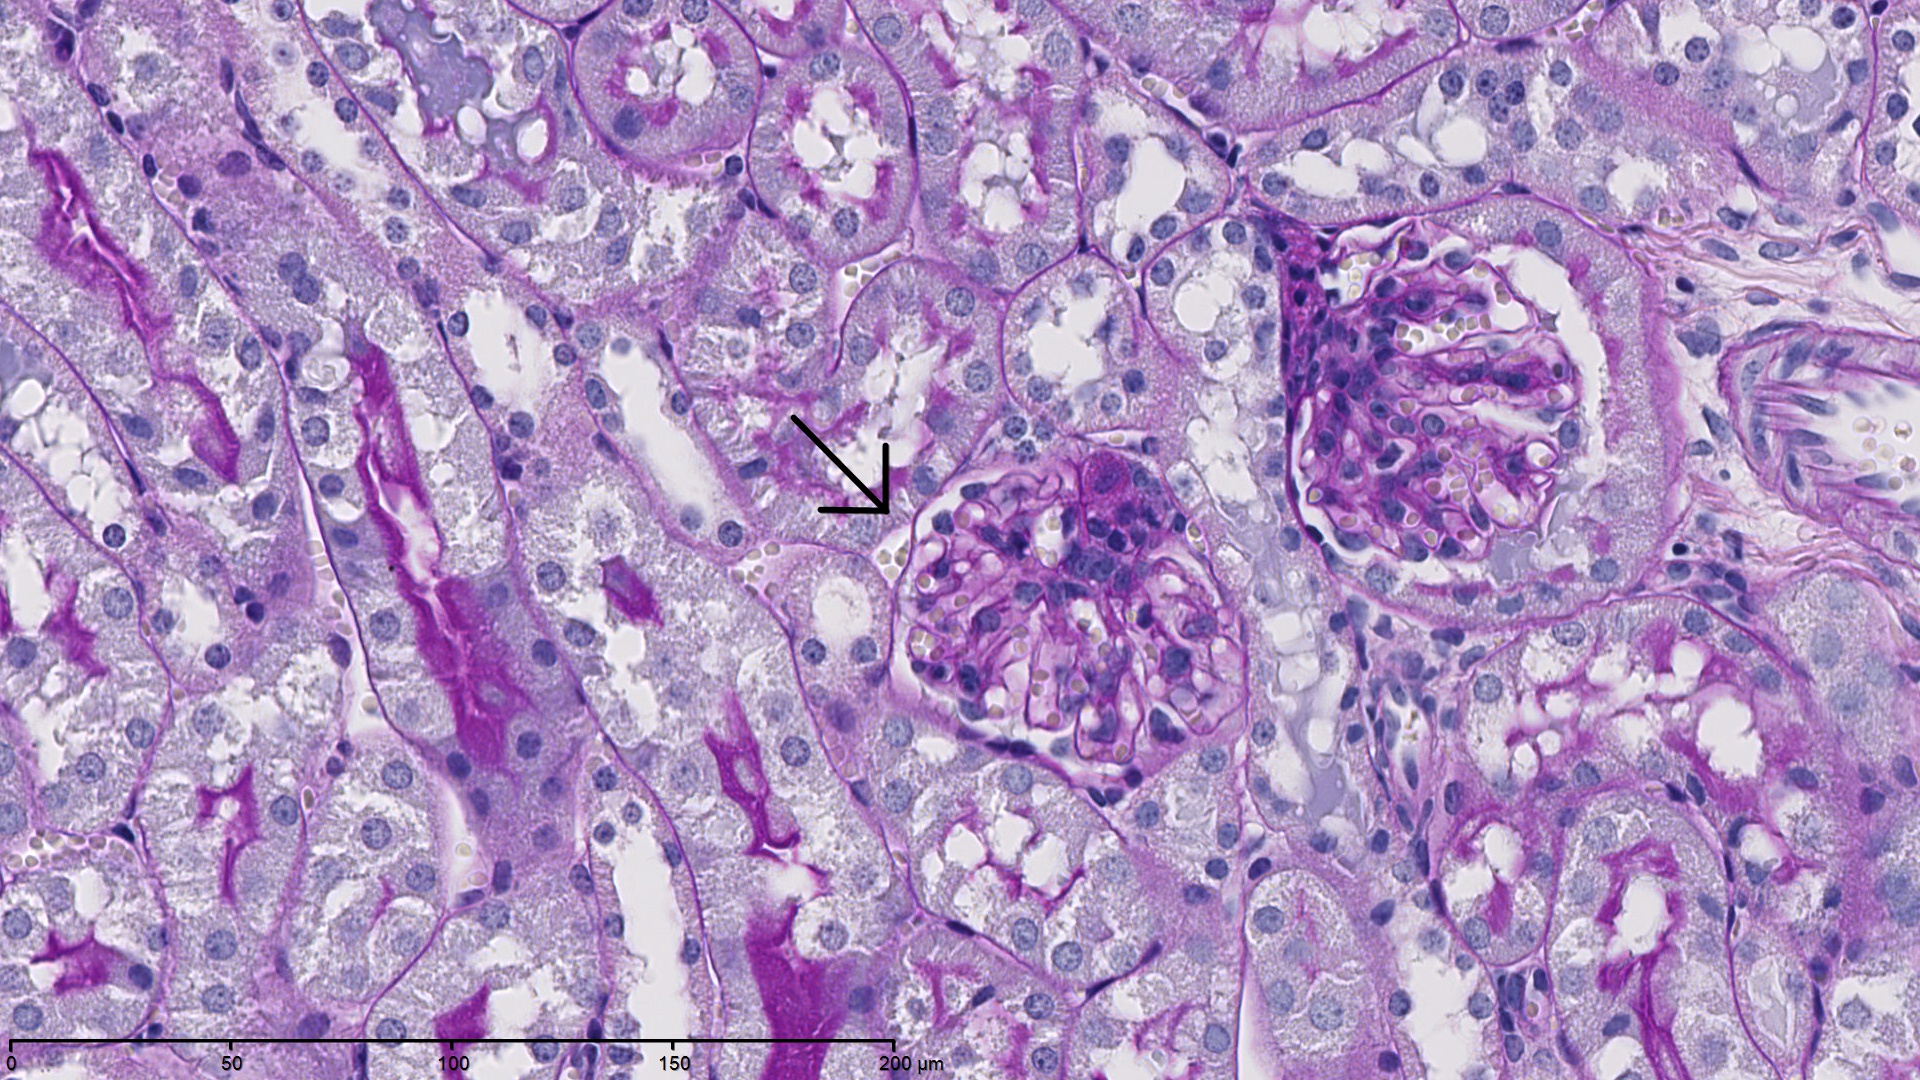Glomeruli: (895, 433, 1265, 814), (1273, 214, 1615, 579)
